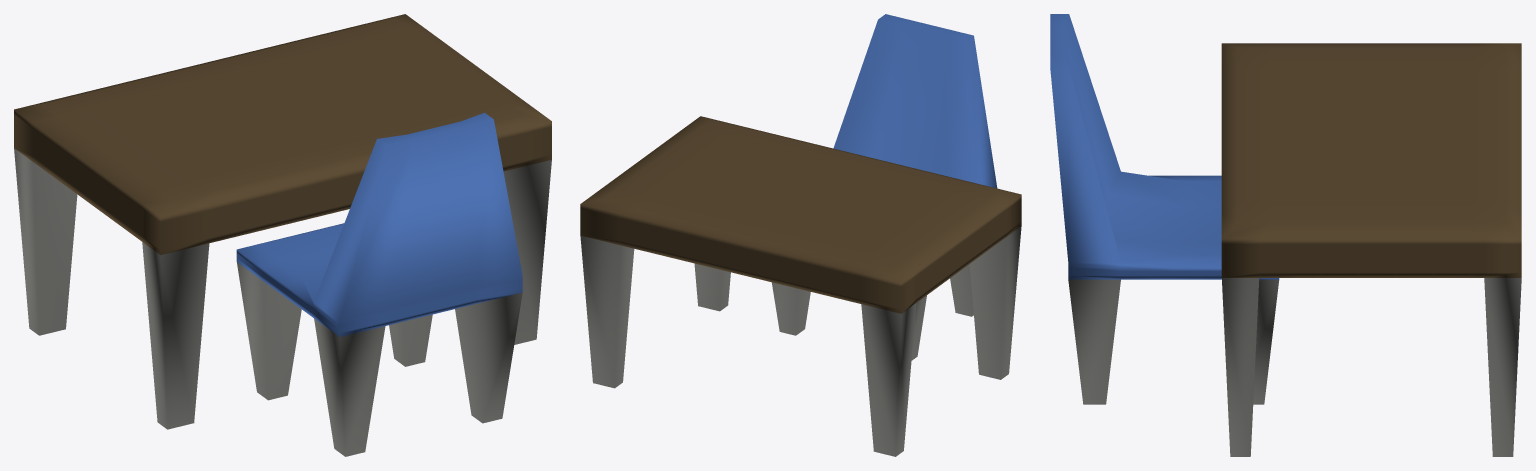
File: schoolDesk.fbx
The picture shows the model from 3 angles, left to right: view 1: azimuth 30°, elevation 25°; view 2: azimuth 150°, elevation 25°; view 3: azimuth 270°, elevation 25°; orthographic projection. The views are drawn at different scales.
Visible parts, largest first — view 1: Desk, Chair; view 2: Desk, Chair; view 3: Desk, Chair.
Boxes of the visible parts, <box> form: Desk: <box>14,14,551,429</box>; Chair: <box>236,112,522,456</box>; Desk: <box>580,116,1021,456</box>; Chair: <box>771,14,997,360</box>; Desk: <box>1221,43,1521,456</box>; Chair: <box>1050,14,1279,404</box>.
Size of the model in its own units: 439 by 339 by 447.
